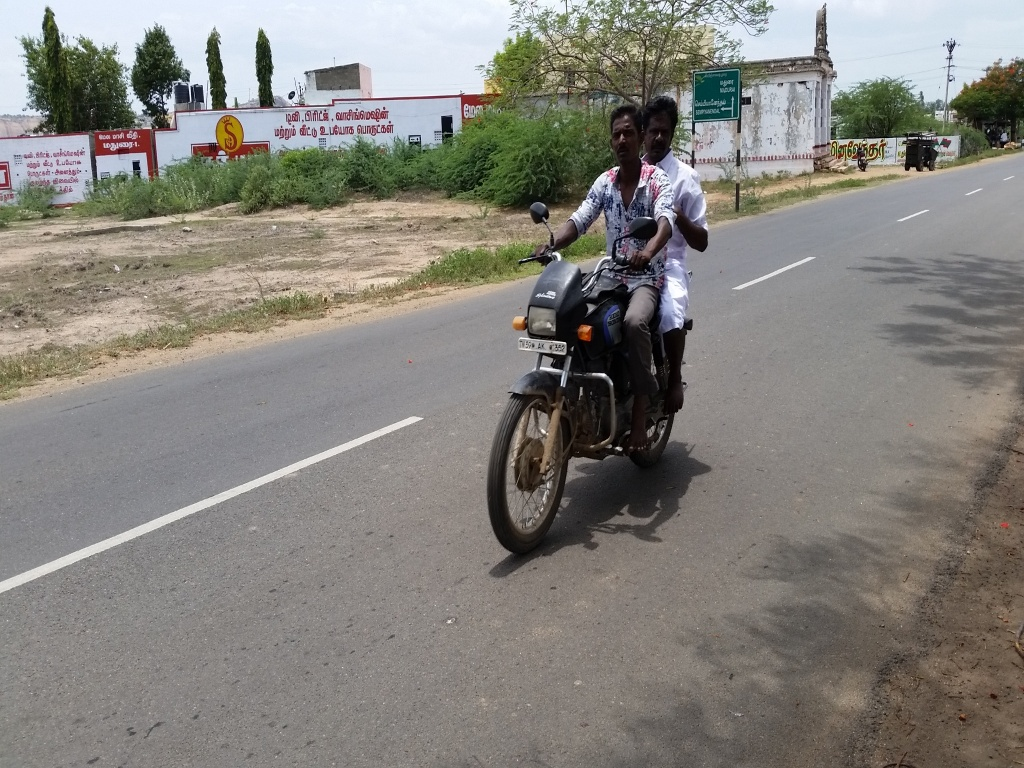biker: (397, 45, 767, 585)
nohelmet: (605, 97, 648, 181), (642, 92, 685, 176)
